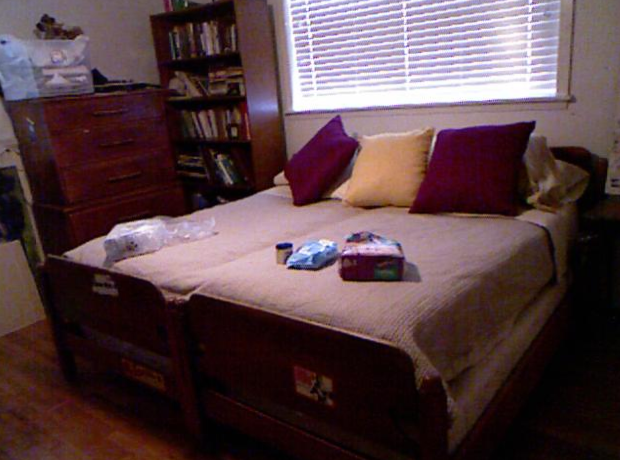cabinet: (187, 5, 270, 185)
cabinetDoor: (80, 199, 170, 223), (73, 163, 163, 186), (64, 96, 154, 119), (71, 129, 161, 152)
window: (295, 0, 558, 99)
